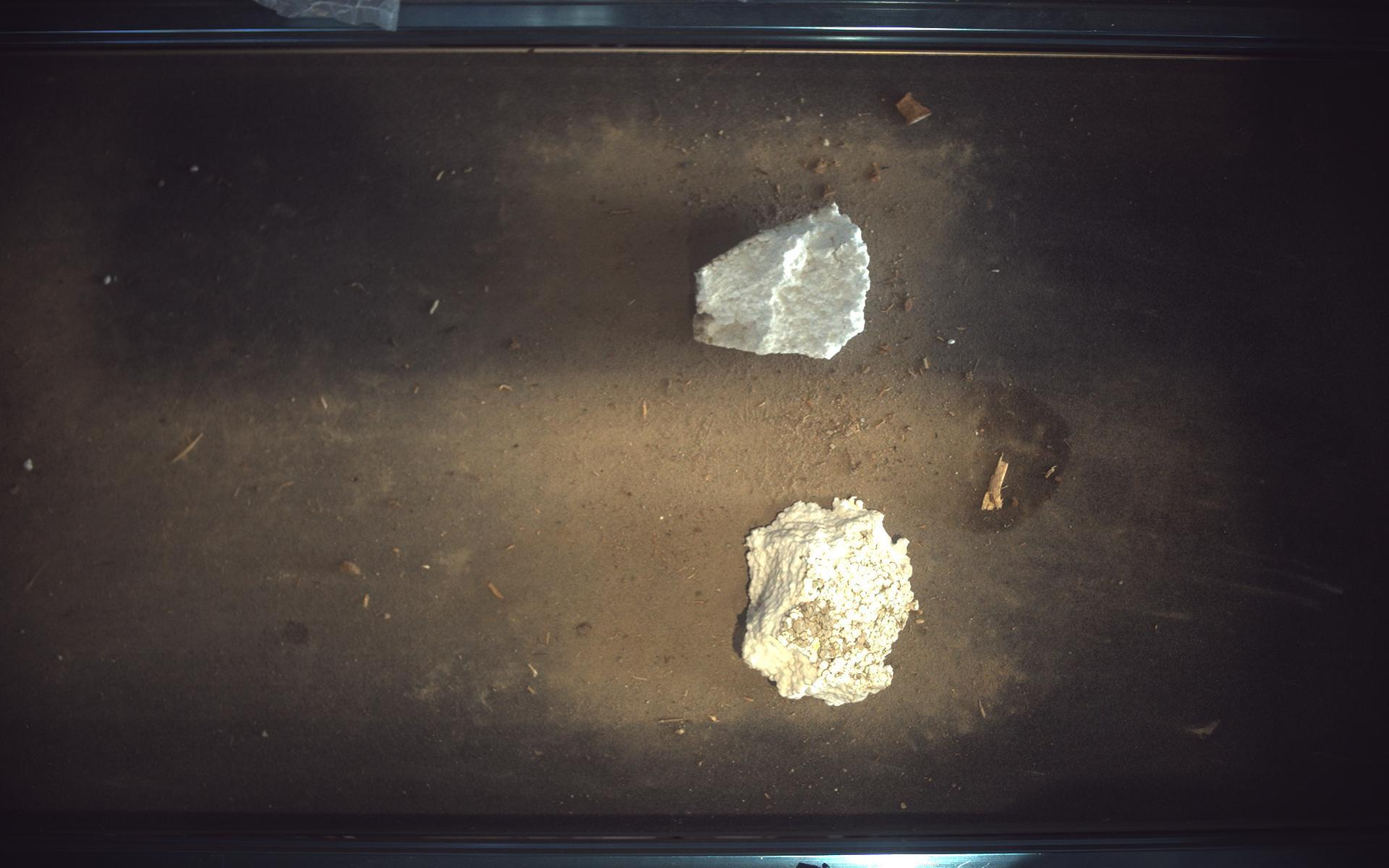foam: (743, 496, 921, 707), (694, 204, 872, 359)
